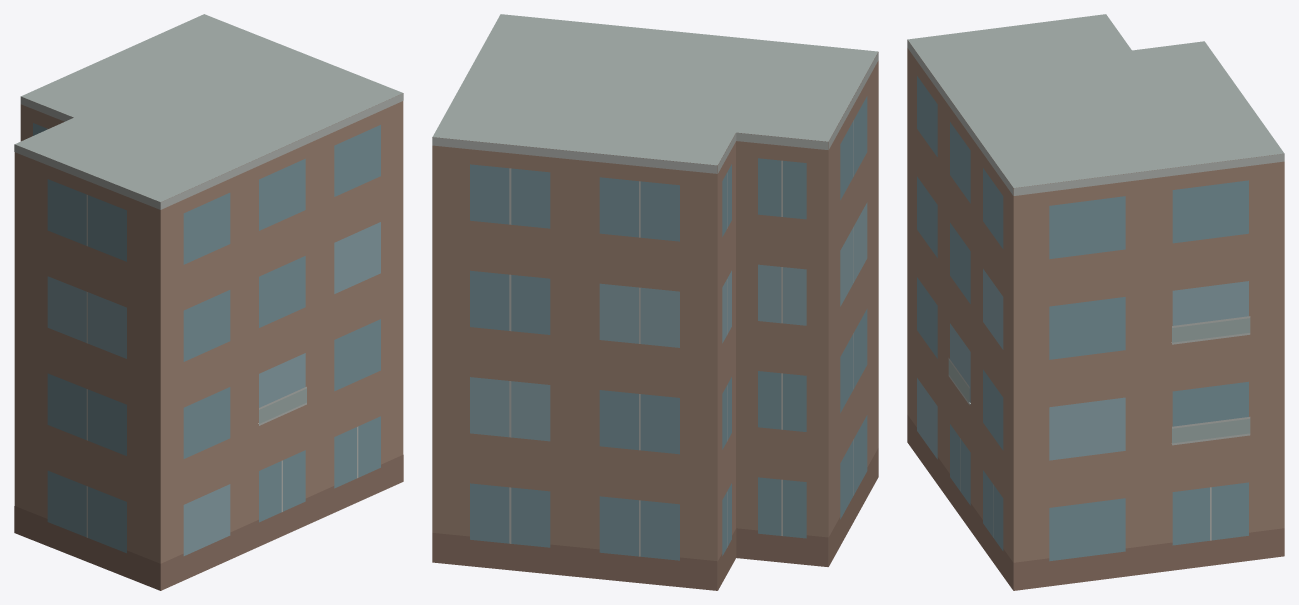
Rendered from residential-f3c28d6a-c479-482c-82b8-ea9002149bc4.glb.
The picture shows the model from 3 angles, left to right: view 1: azimuth 30°, elevation 25°; view 2: azimuth 150°, elevation 25°; view 3: azimuth 270°, elevation 25°; orthographic projection. The views are drawn at different scales.
Visible parts, largest first — view 1: residential-f3c28d6a-c479-482c-82b8-ea9002149bc4.tmp; view 2: residential-f3c28d6a-c479-482c-82b8-ea9002149bc4.tmp; view 3: residential-f3c28d6a-c479-482c-82b8-ea9002149bc4.tmp.
Boxes of the visible parts, x1,y1,x2,y2 form: residential-f3c28d6a-c479-482c-82b8-ea9002149bc4.tmp: (14, 14, 403, 590); residential-f3c28d6a-c479-482c-82b8-ea9002149bc4.tmp: (432, 14, 878, 590); residential-f3c28d6a-c479-482c-82b8-ea9002149bc4.tmp: (907, 14, 1284, 590).
Bounding box in the file's own units: 11.32 × 12.2 × 10.36.
